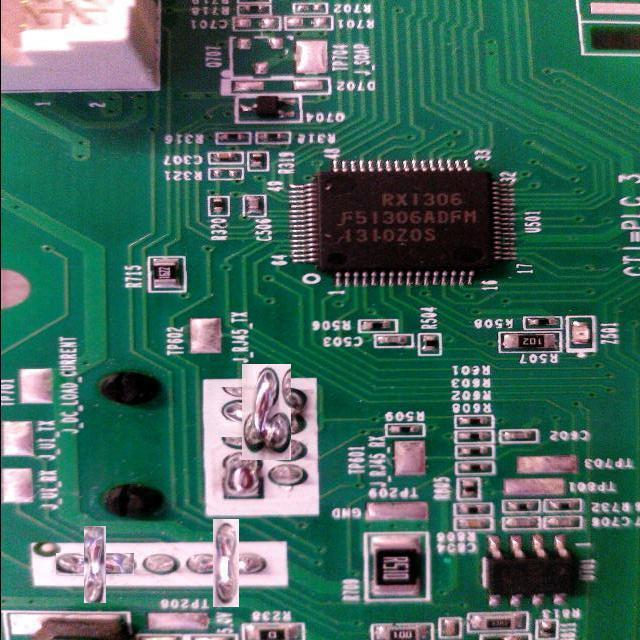Short_circuit: (230, 376, 302, 448), (198, 535, 255, 592), (70, 540, 120, 590)
